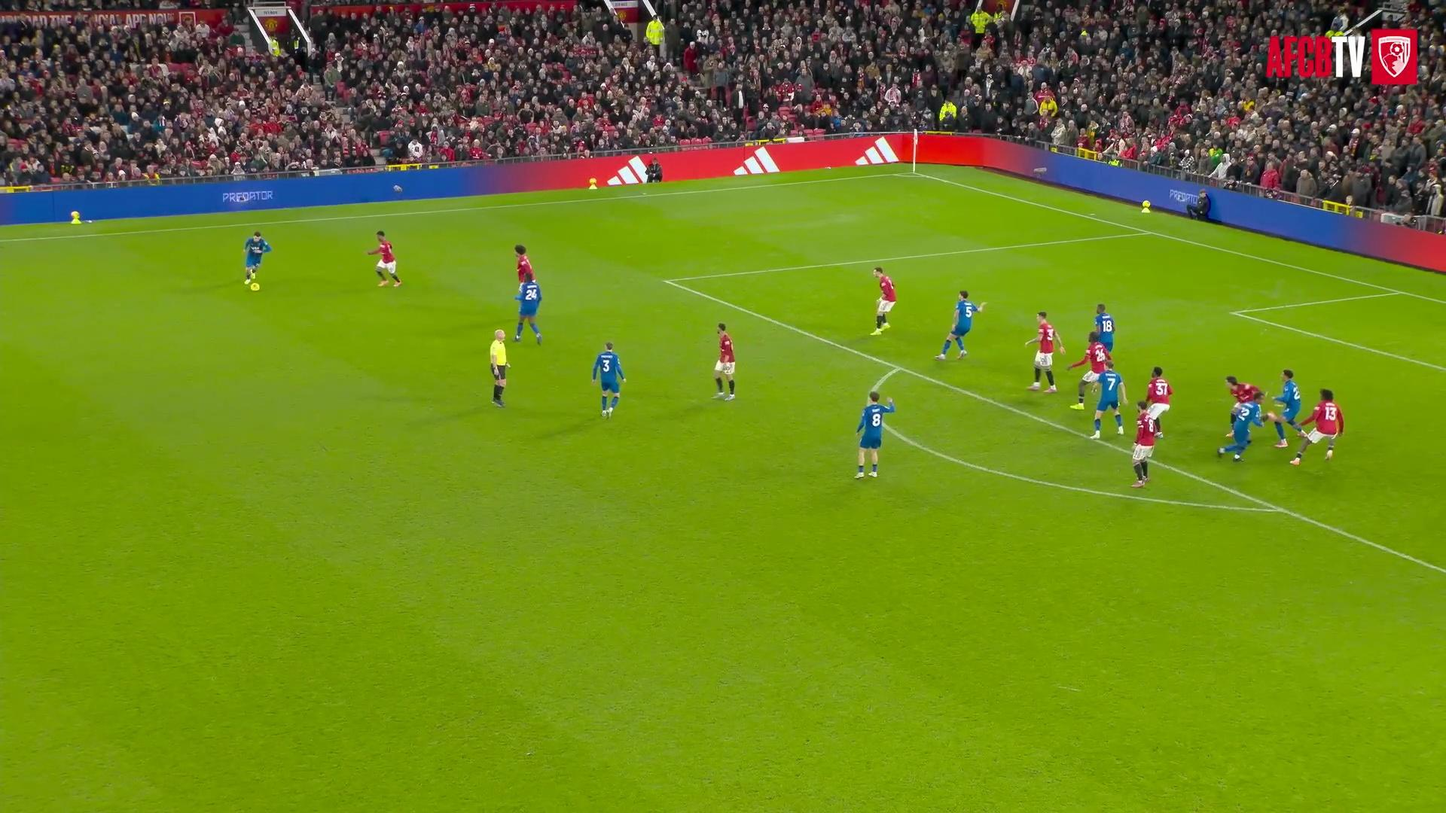football: (245, 276, 266, 296)
player: (1290, 390, 1343, 465), (935, 291, 985, 359), (856, 391, 895, 478), (1217, 391, 1264, 461), (1069, 331, 1110, 410), (1026, 312, 1063, 393), (1091, 360, 1125, 438), (592, 343, 624, 416), (1273, 370, 1303, 447), (1132, 400, 1158, 487), (1225, 376, 1261, 437), (367, 230, 401, 286), (514, 273, 541, 343), (1146, 366, 1172, 436), (871, 266, 895, 335), (714, 323, 735, 400), (244, 231, 272, 285), (1095, 303, 1115, 353), (514, 245, 535, 283)
referee: (490, 330, 507, 406)
